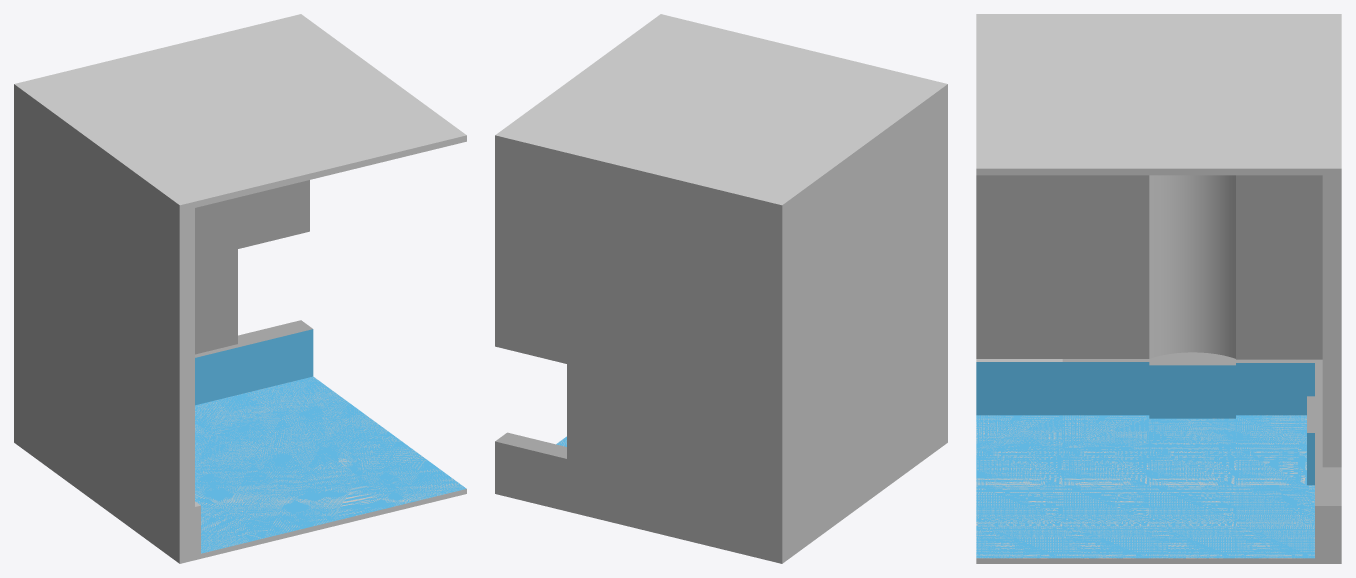
Rendered from poolroom.dae.
3 renders of one model, left to right at view 1: azimuth 30°, elevation 25°; view 2: azimuth 150°, elevation 25°; view 3: azimuth 270°, elevation 25°, orthographic. The views are drawn at different scales.
Visible parts, largest first — view 1: SketchUp (×3); view 2: SketchUp (×2); view 3: SketchUp (×4).
Part boxes in pixels (box(x1,y1,x2,y2)): SketchUp (×3): box(14, 14, 466, 563); SketchUp (×2): box(495, 14, 947, 563); SketchUp (×4): box(976, 14, 1341, 563).
Bounding box in the file's own units: 187 × 187 × 223.
